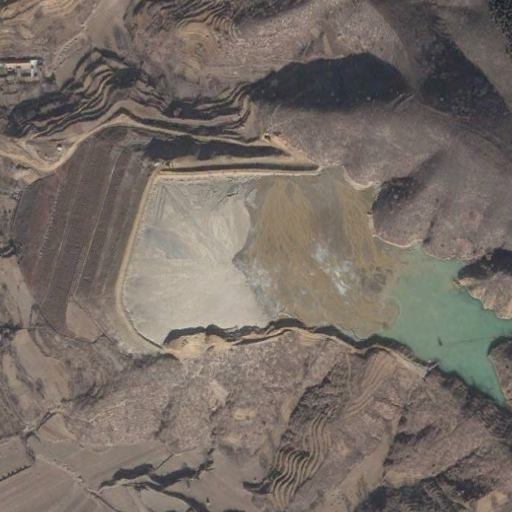tp: (13, 121, 512, 404)
